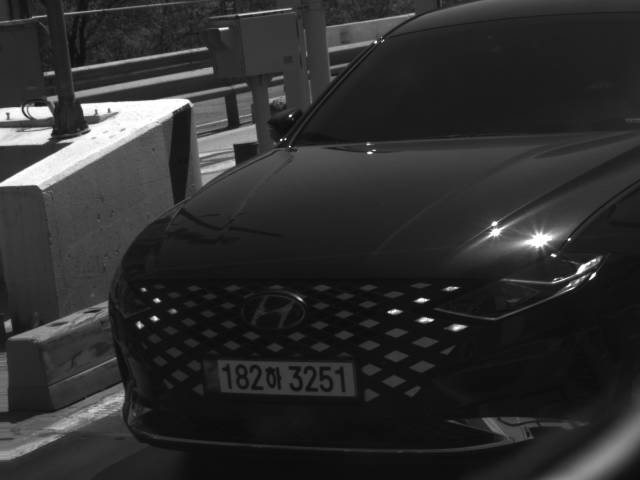car: (108, 2, 640, 470)
plate: (200, 357, 357, 398)
